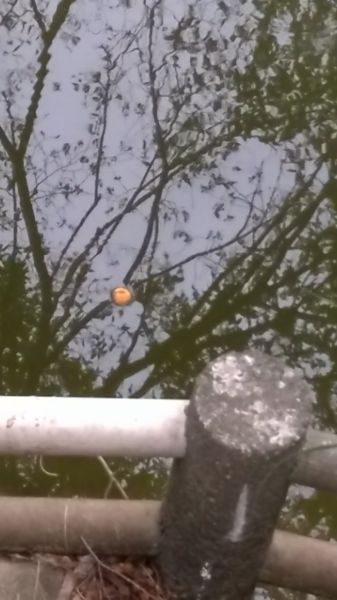eggs: (108, 281, 136, 309)
